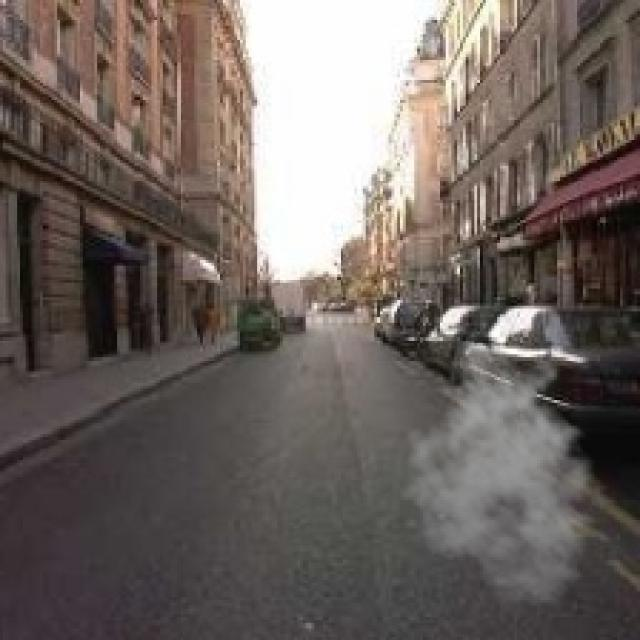smoke: (397, 337, 617, 609)
